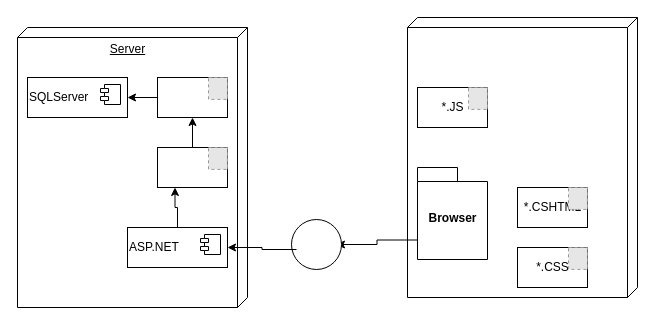
The diagram is 655 pixels wide and 325 high, and some of its shapes have lost their labels. Grey dashed boxes stand in for pictures. Each missing label, with the box of its shape:
*.asax: (156, 146, 228, 188)
*.CS: (156, 76, 228, 118)
Client: (406, 16, 638, 298)
TCP/IP: (290, 218, 342, 270)
